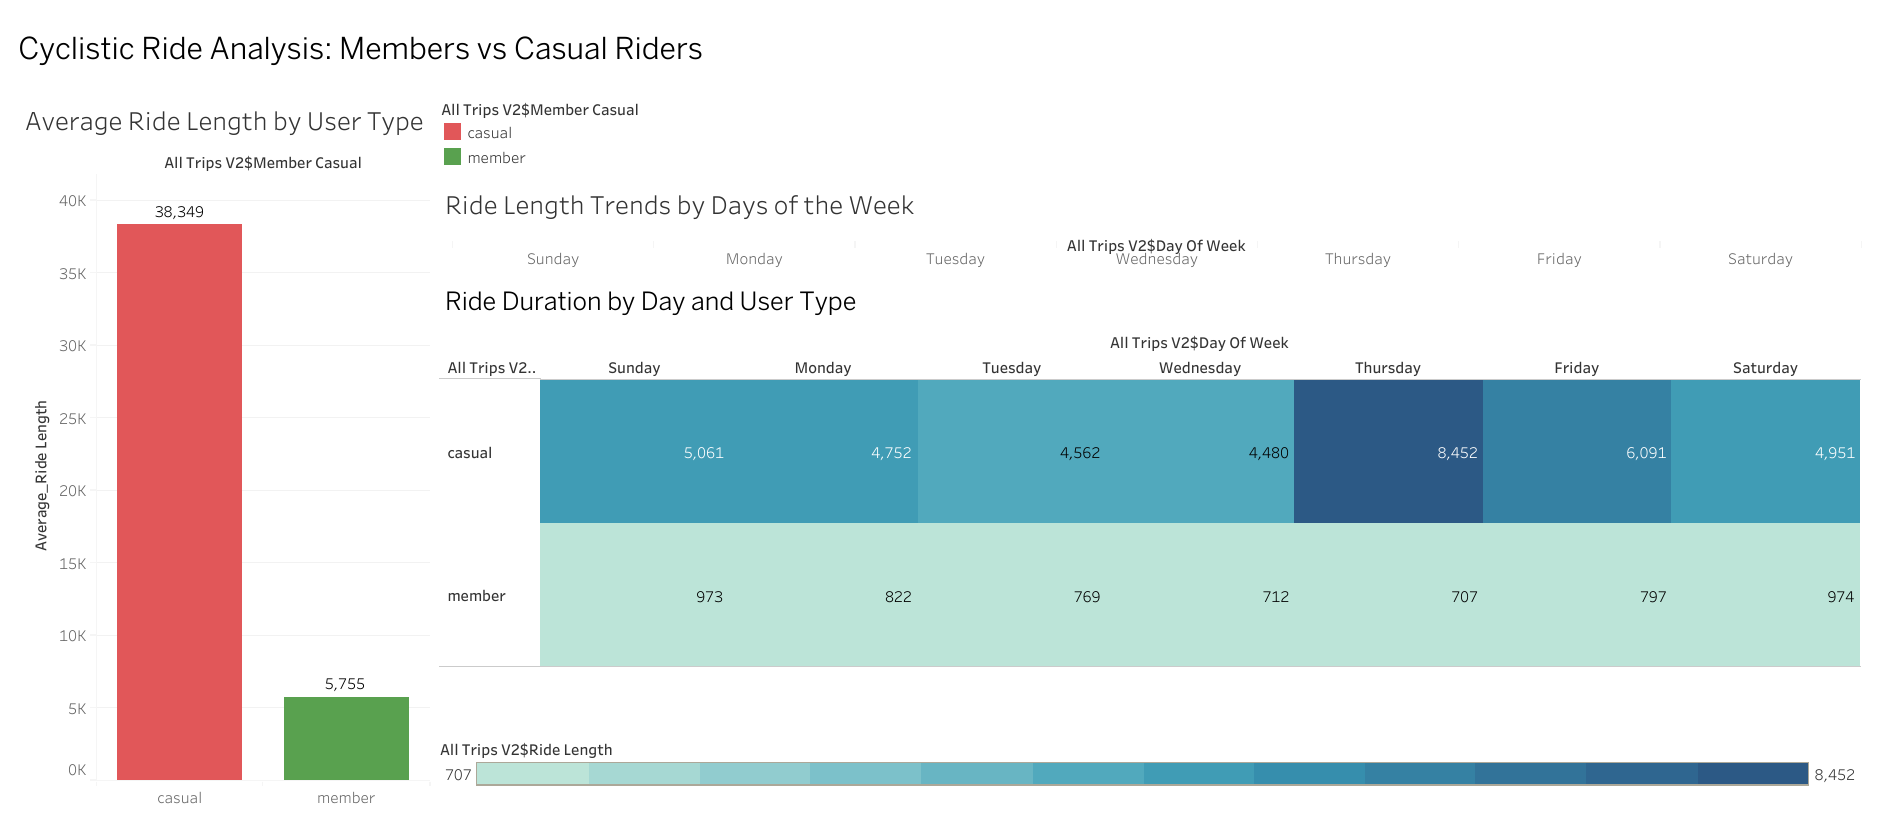

This screenshot's page, from the dashboard's own definition file:
{"tool":"tableau","page":{"name":"Dashboard 1","canvas":[650,860],"ordinal":0},"visuals":[{"type":"title","box":[8,8,634,60]},{"type":"worksheet","title":"Sheet 1","mark":"Automatic","rows":["all_trips_v2$ride_length"],"cols":["all_trips_v2$member_casual"],"box":[8,68,193,784]},{"type":"legend","title":"Sheet 1","param":"[federated.1ugroj21cdzm2v10oih5u0t99zcl].[none:all_trips_v2$member_casual:nk]","box":[201,68,441,72]},{"type":"worksheet","title":"Sheet 2","mark":"Line","rows":["all_trips_v2$ride_length"],"cols":["all_trips_v2$day_of_week"],"box":[201,140,441,274]},{"type":"worksheet","title":"Sheet 3","mark":"Square","rows":["all_trips_v2$member_casual"],"cols":["all_trips_v2$day_of_week"],"box":[201,414,441,365]},{"type":"legend","title":"Sheet 3","param":"[federated.1ugroj21cdzm2v10oih5u0t99zcl].[sum:all_trips_v2$ride_length:qk]","box":[201,779,441,73]}]}

Visuals, with their boxes on the page's 650x860 design canvas (x1, y1, x2, y2). These are canvas units, not pixel positions in the 1880x826 screenshot, which may show the page scaled, cropped or inside an application window:
title: crop(8, 8, 642, 68)
"Sheet 1" worksheet: crop(8, 68, 201, 852)
"Sheet 1" legend: crop(201, 68, 642, 140)
"Sheet 2" worksheet (Line marks): crop(201, 140, 642, 414)
"Sheet 3" worksheet (Square marks): crop(201, 414, 642, 779)
"Sheet 3" legend: crop(201, 779, 642, 852)
